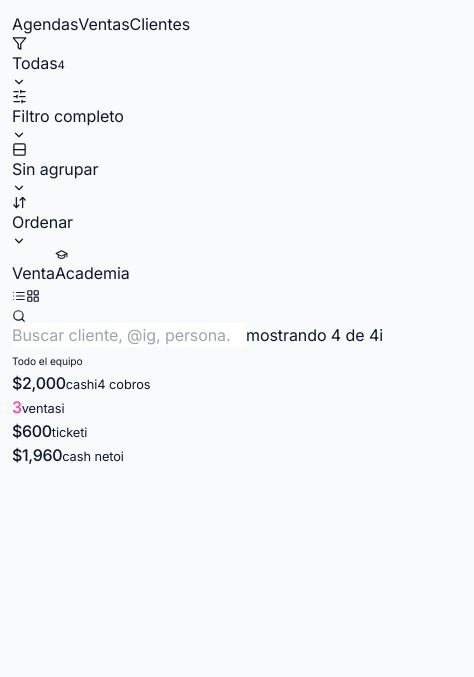
Test: Totales · Ventas › la búsqueda y el filtro rápido recortan el cash, las ventas y el ticket
The image size is (474, 677).
Type "Ana" into the search field labelled "Buscar" at (129, 335), box [12, 323, 246, 347]
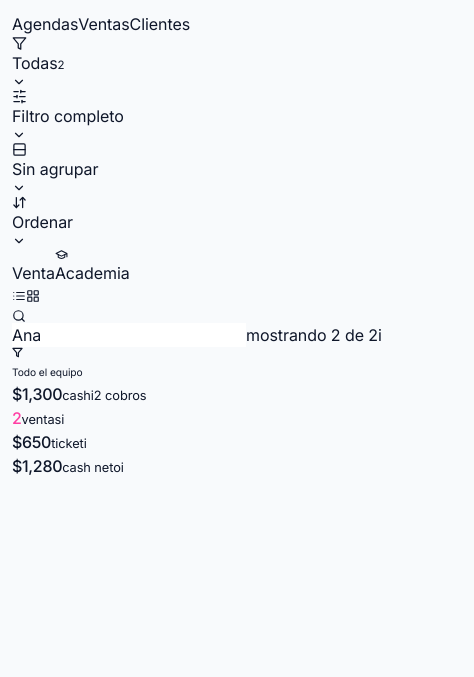
Click the button "Todas2" at (38, 62), box [12, 36, 64, 89]
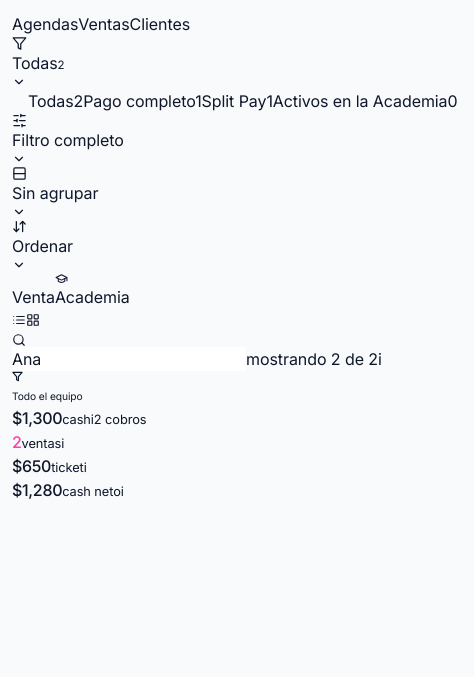
Click the menu item "Split Pay1" at (237, 101), box [202, 89, 273, 113]
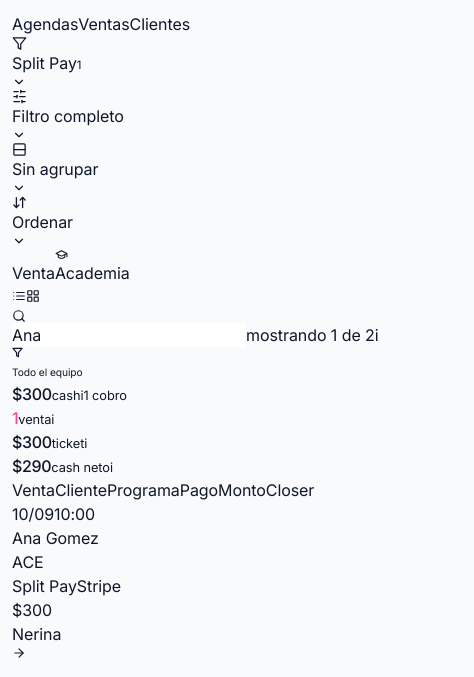
Result: the number of buttons named "Abrir " is 1 at [12, 504, 121, 660]
